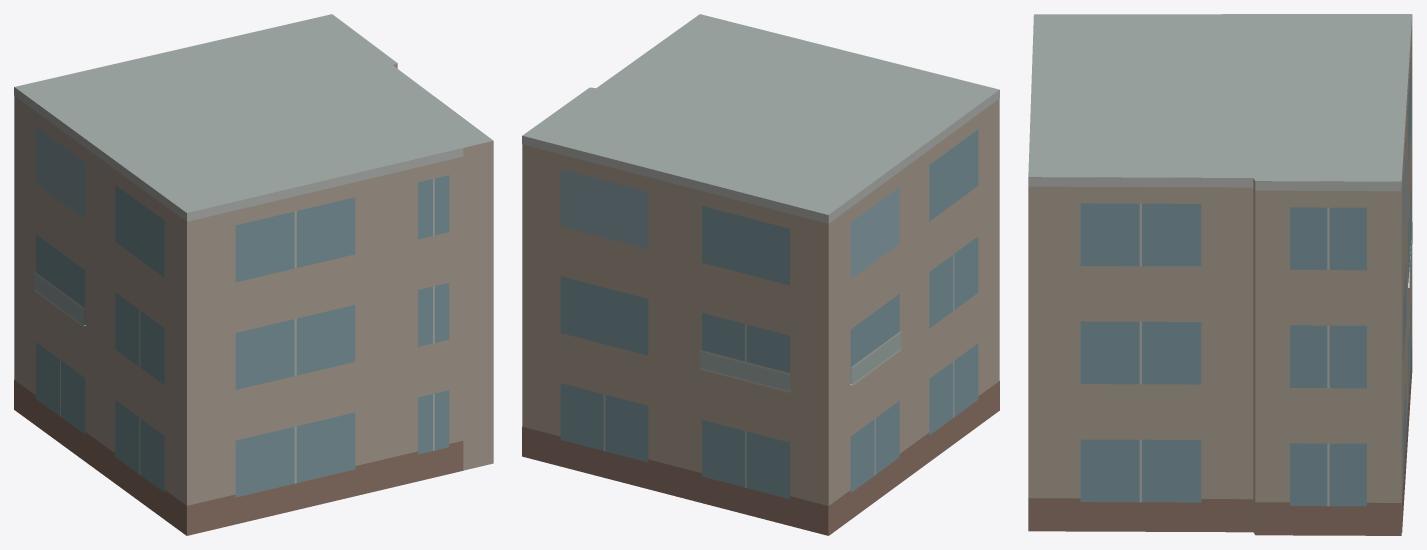
Rendered from survey-upis-32564965.glb.
The picture shows the model from 3 angles, left to right: view 1: azimuth 30°, elevation 25°; view 2: azimuth 150°, elevation 25°; view 3: azimuth 270°, elevation 25°; orthographic projection. The views are drawn at different scales.
Parts seen in each view (by area): view 1: survey-upis-32564965.tmp; view 2: survey-upis-32564965.tmp; view 3: survey-upis-32564965.tmp.
Part boxes in pixels (x1,y1,x2,y2): survey-upis-32564965.tmp: (14,14,493,535); survey-upis-32564965.tmp: (522,14,999,535); survey-upis-32564965.tmp: (1028,14,1412,535).
Bounding box in the file's own units: 9.18 × 9 × 8.85.
